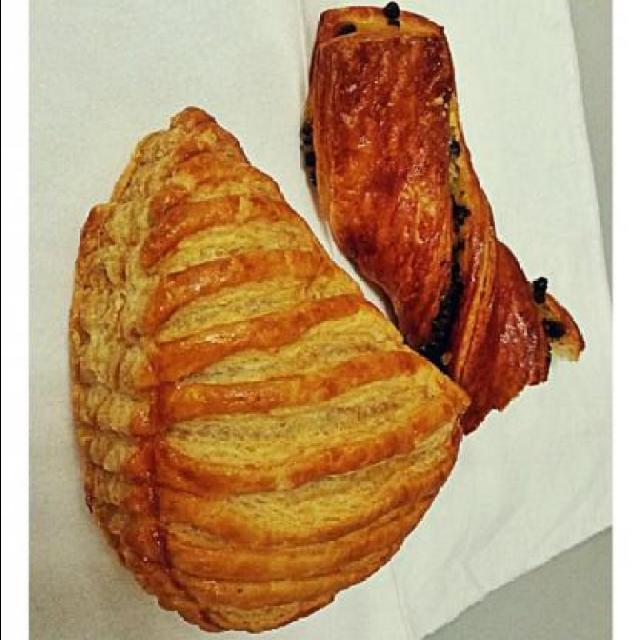Croissant: (43, 114, 483, 640)
